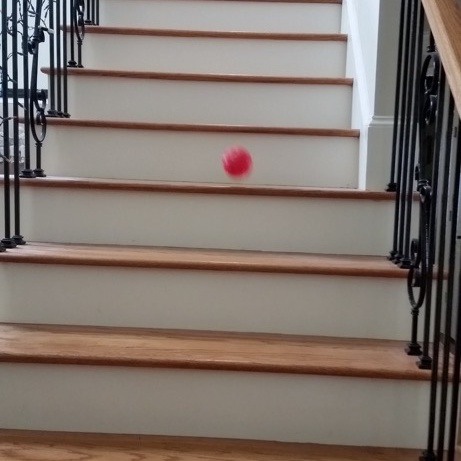ball: (222, 145, 252, 178)
